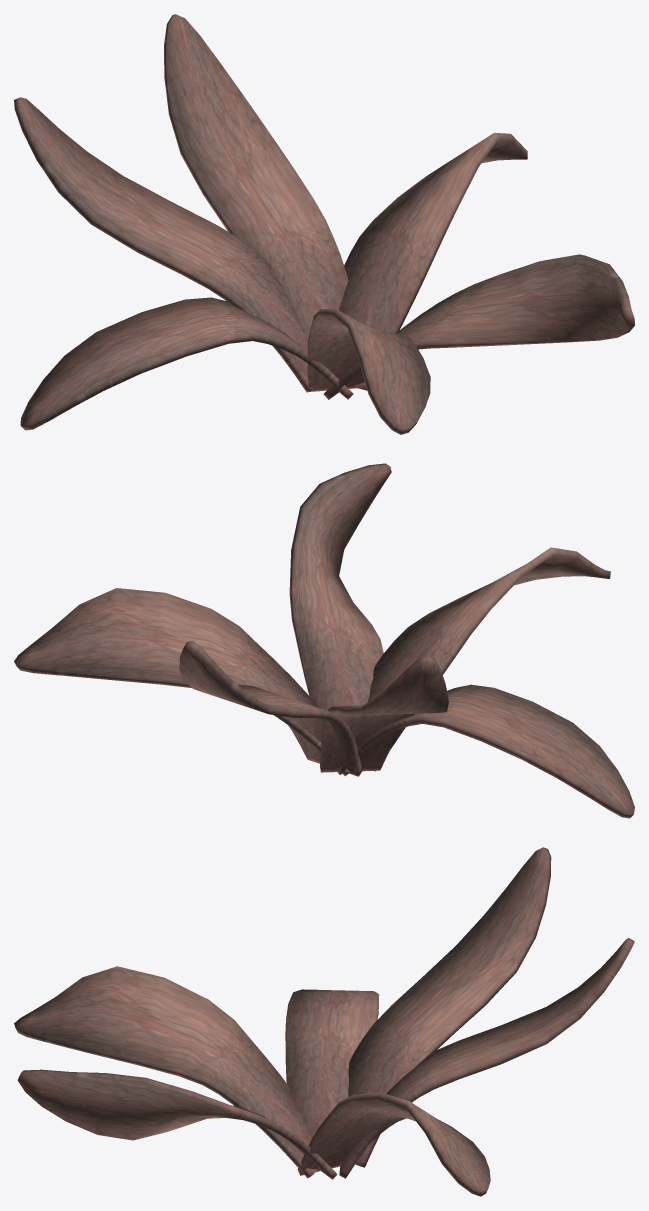
The model's file is calyx4_sb2_b.dae.
The picture shows the model from 3 angles, top to bottom: view 1: azimuth 30°, elevation 25°; view 2: azimuth 150°, elevation 25°; view 3: azimuth 270°, elevation 25°; orthographic projection. The views are drawn at different scales.
Visible parts, largest first — view 1: calyx2_001, calyx2, calyx5, calyx3, calyx4_001, calyx4; view 2: calyx4_001, calyx5, calyx3, calyx4, calyx2, calyx2_001; view 3: calyx4, calyx2, calyx5, calyx3, calyx2_001, calyx4_001.
Part boxes in pixels (x1,y1,x2,y2): calyx2_001: (164, 14, 348, 338); calyx2: (14, 97, 313, 392); calyx5: (323, 254, 634, 399); calyx3: (20, 297, 353, 430); calyx4_001: (339, 132, 527, 390); calyx4: (307, 309, 430, 434); calyx4_001: (14, 588, 350, 776); calyx5: (289, 463, 391, 710); calyx3: (337, 684, 634, 818); calyx4: (367, 547, 610, 771); calyx2: (319, 655, 448, 772); calyx2_001: (179, 640, 362, 776); calyx4: (14, 966, 317, 1178); calyx2: (348, 847, 551, 1167); calyx5: (17, 1069, 337, 1179); calyx3: (285, 989, 379, 1163); calyx2_001: (339, 938, 634, 1178); calyx4_001: (297, 1092, 490, 1196).
Size of the model in its own units: 0.0832 by 0.0841 by 0.0345.
Materials: 6 (6 with a texture image).
